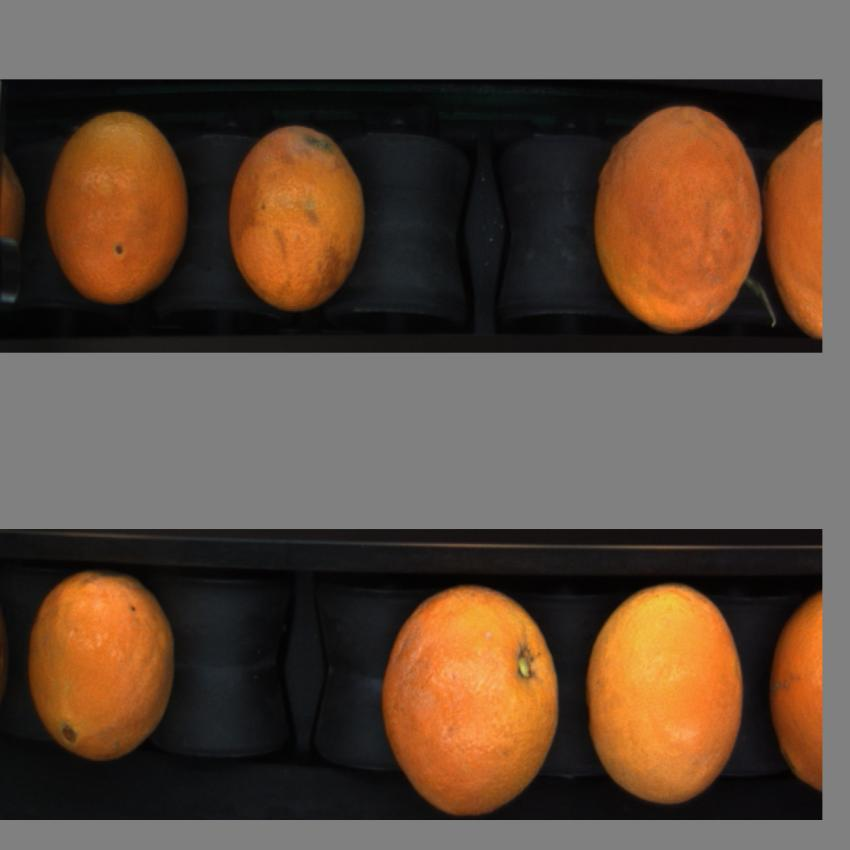Buen estado: (376, 579, 566, 815), (583, 581, 750, 807), (42, 104, 201, 302), (27, 566, 182, 764), (762, 103, 822, 345), (763, 574, 822, 806)
Mal estado: (594, 104, 765, 326), (220, 116, 380, 329)
